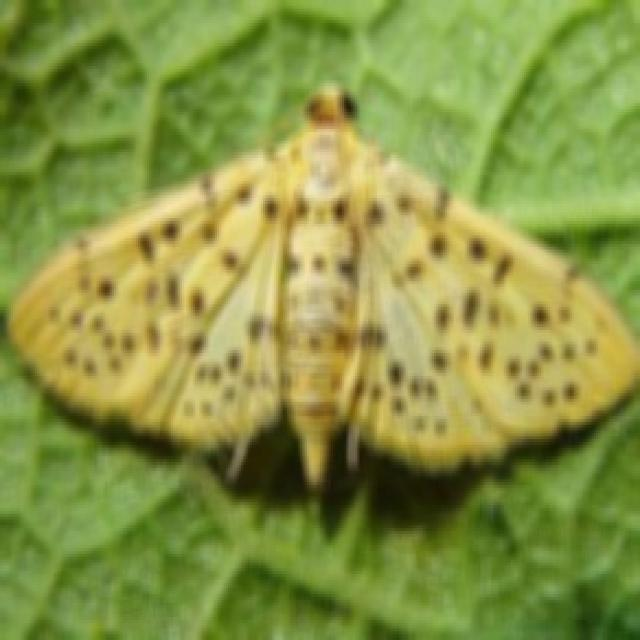peach borer: (7, 81, 636, 495)
